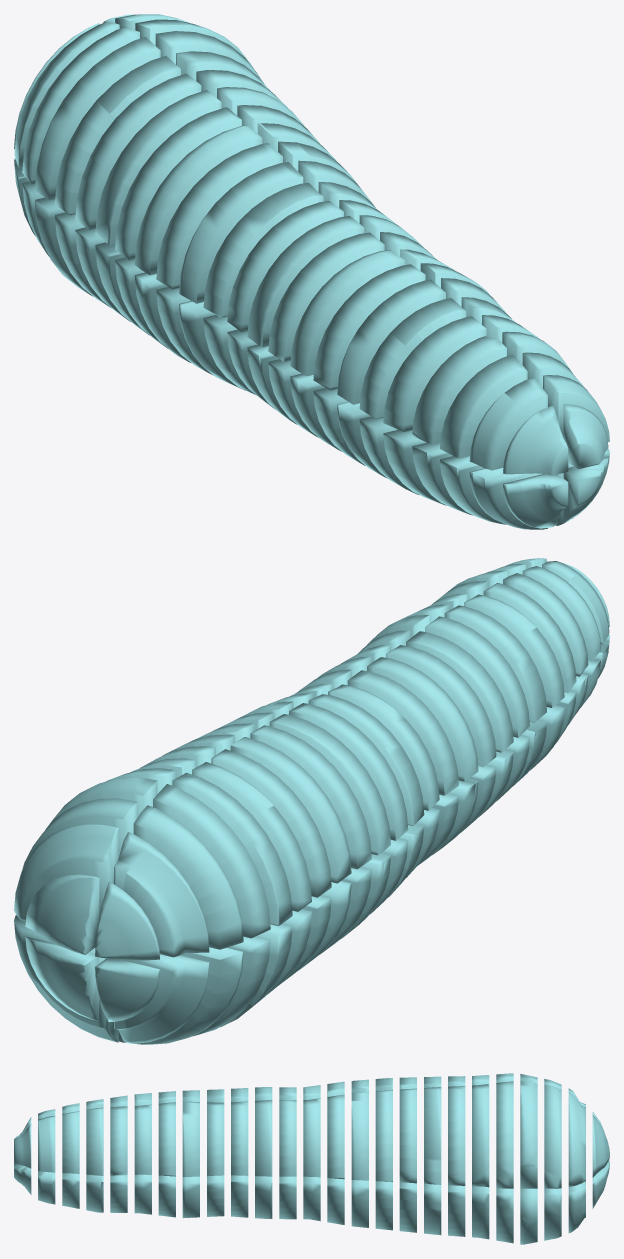
Rendered from VB_pancreas.glb.
3 renders of one model, top to bottom at view 1: azimuth 30°, elevation 25°; view 2: azimuth 150°, elevation 25°; view 3: azimuth 270°, elevation 25°, orthographic. The views are drawn at different scales.
Visible parts, largest first — view 1: vb_pancreas_fuill; view 2: vb_pancreas_fuill; view 3: vb_pancreas_fuill.
Boxes of the visible parts, left/top/right/bottom form: vb_pancreas_fuill: left=14, top=14, right=609, bottom=529; vb_pancreas_fuill: left=14, top=558, right=609, bottom=1044; vb_pancreas_fuill: left=14, top=1073, right=609, bottom=1244.
Size of the model in its own units: 0.048 by 0.0513 by 0.177.
